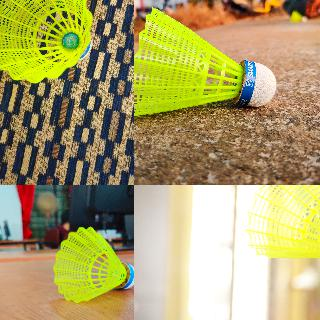shuttlecock: (134, 5, 277, 118), (0, 0, 93, 83), (52, 225, 133, 303), (245, 185, 319, 270)
